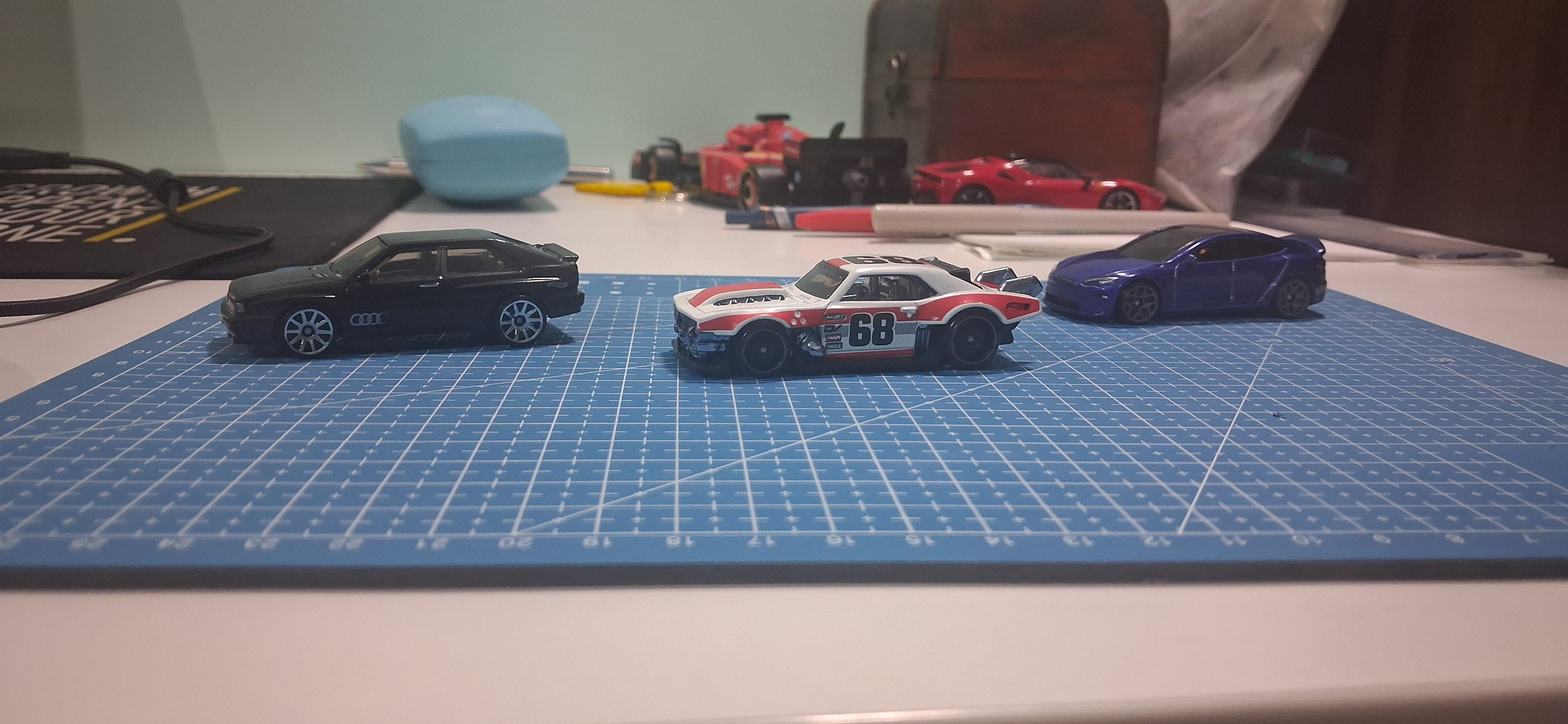Audi_Quattro: (203, 218, 585, 375)
Camaro: (650, 229, 1042, 410)
Tesla_Model_S_Plaid: (1040, 212, 1339, 358)
